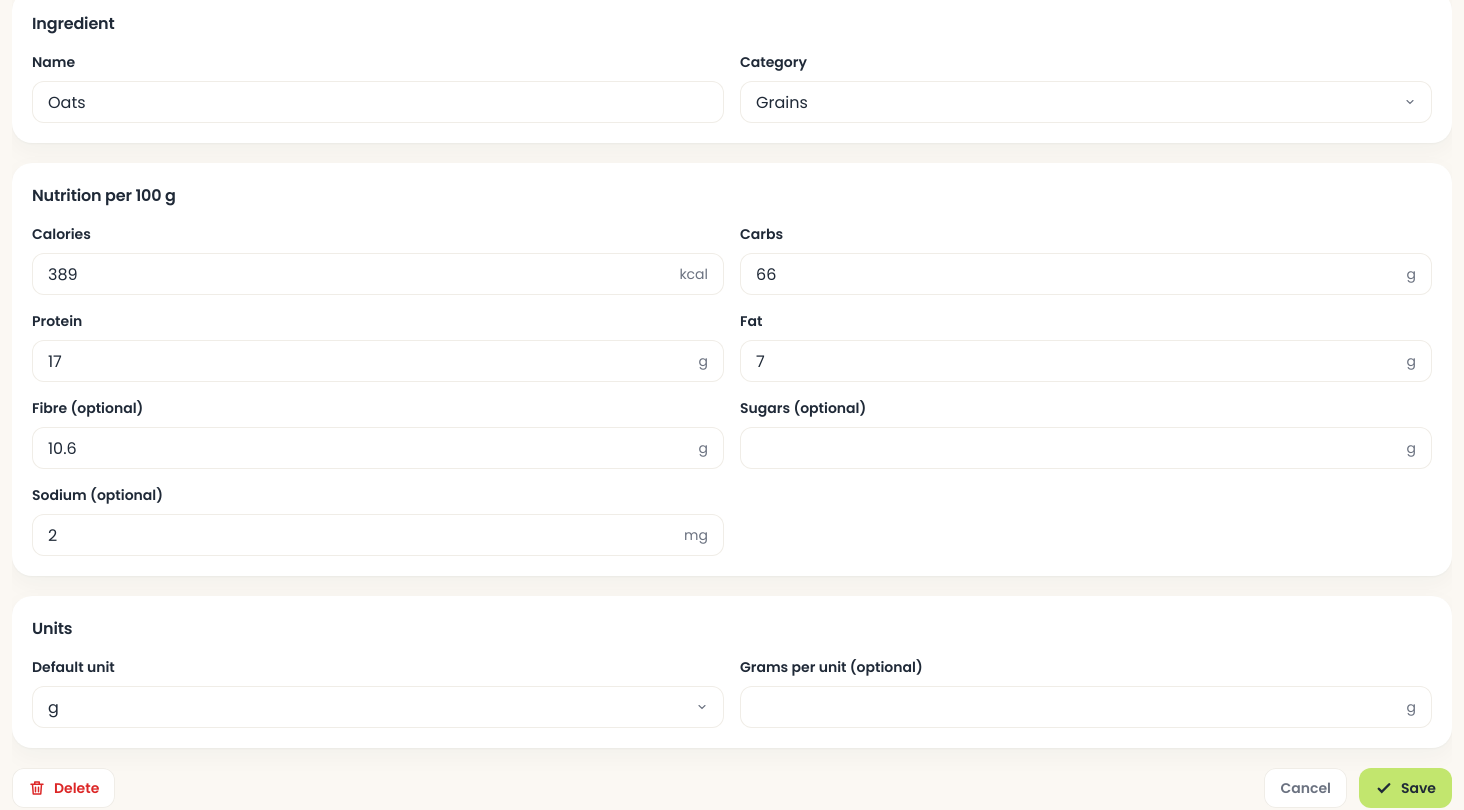
IngredientsPage /ingredients/:id (edit) › shows a name-conflict message on a 409 PATCH
(page scrolled)
Click the button "Save" at (1406, 788), box [1359,768,1452,808]
(page scrolled)
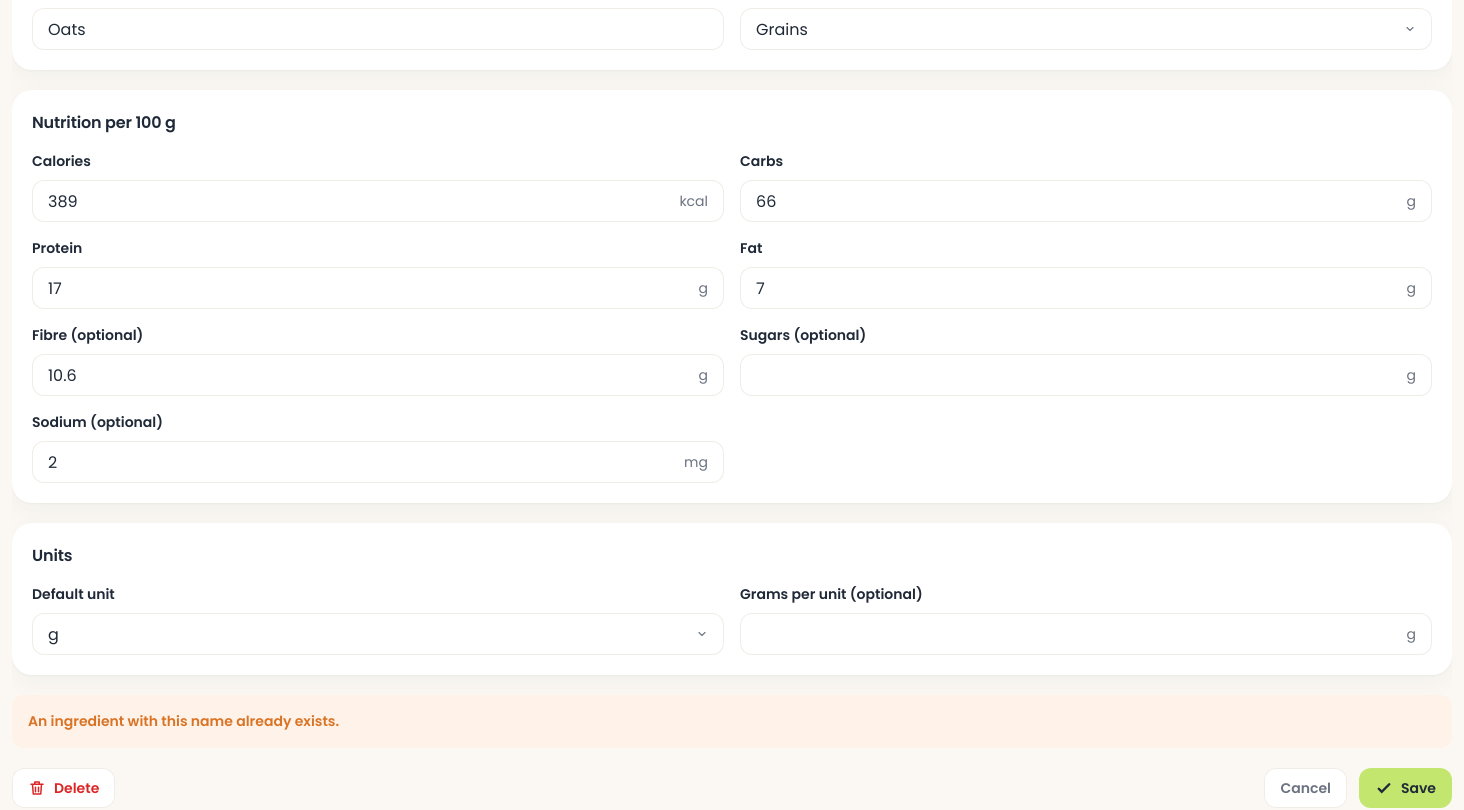
Check: the message reads "An ingredient with this name already exists.", box [28,711,339,731]
